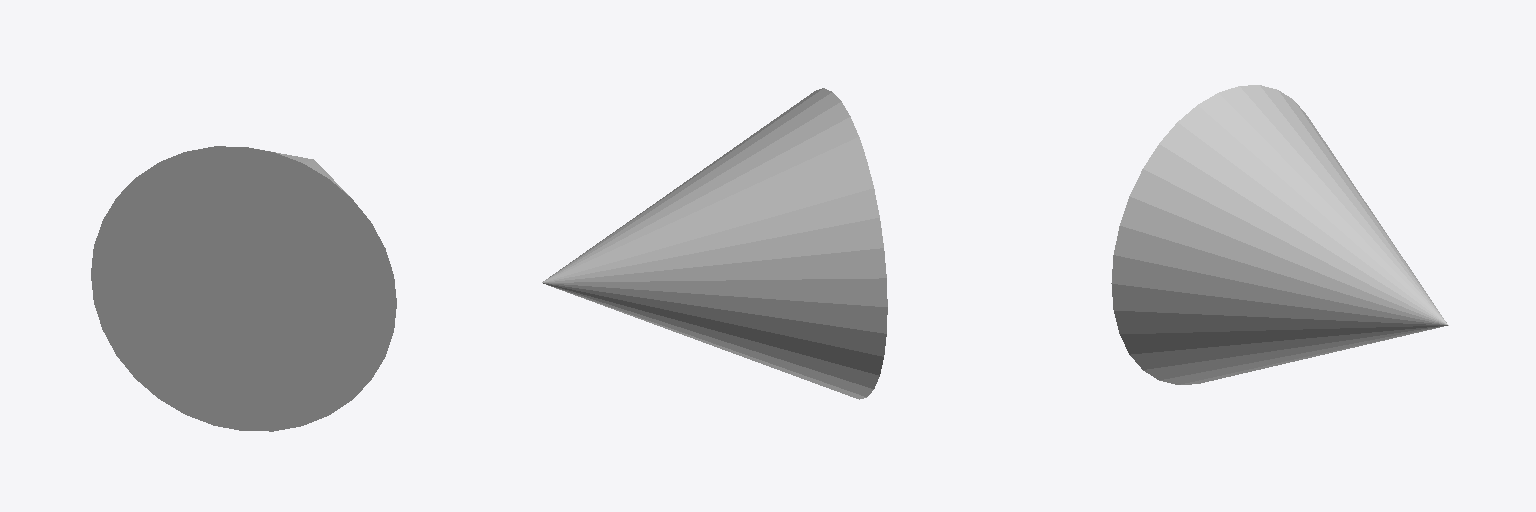
Rendered from Cobra-rabo.obj.
The picture shows the model from 3 angles: view 1: azimuth 30°, elevation 25°; view 2: azimuth 150°, elevation 25°; view 3: azimuth 270°, elevation 25°; orthographic projection.
Visible parts, largest first — view 1: Cobra-rabo_Cone.001; view 2: Cobra-rabo_Cone.001; view 3: Cobra-rabo_Cone.001.
Boxes of the visible parts, x1,y1,x2,y2 form: Cobra-rabo_Cone.001: [91, 146, 396, 431]; Cobra-rabo_Cone.001: [542, 88, 887, 399]; Cobra-rabo_Cone.001: [1111, 85, 1448, 384].
Size of the model in its own units: 0.4549 by 0.4344 by 0.4661.